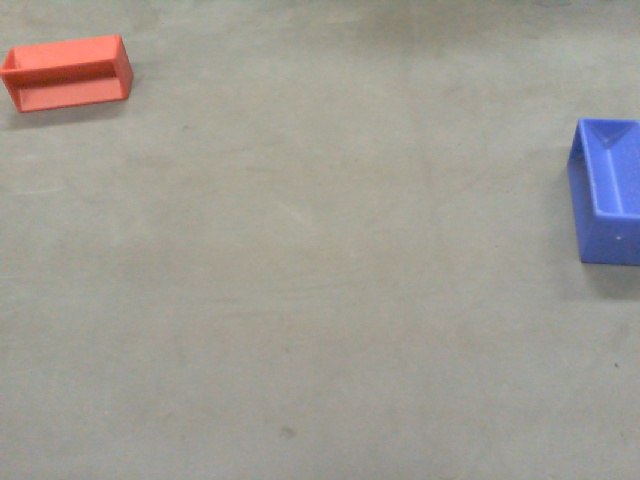BlueSample: (561, 116, 640, 267)
RedSample: (1, 32, 142, 119)
